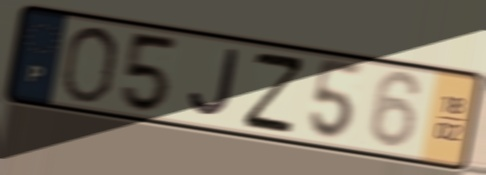5: (115, 29, 189, 117), (304, 54, 368, 146)
6: (364, 68, 429, 155)
J: (185, 46, 241, 122)
O: (57, 24, 122, 106)
Z: (241, 49, 308, 135)
